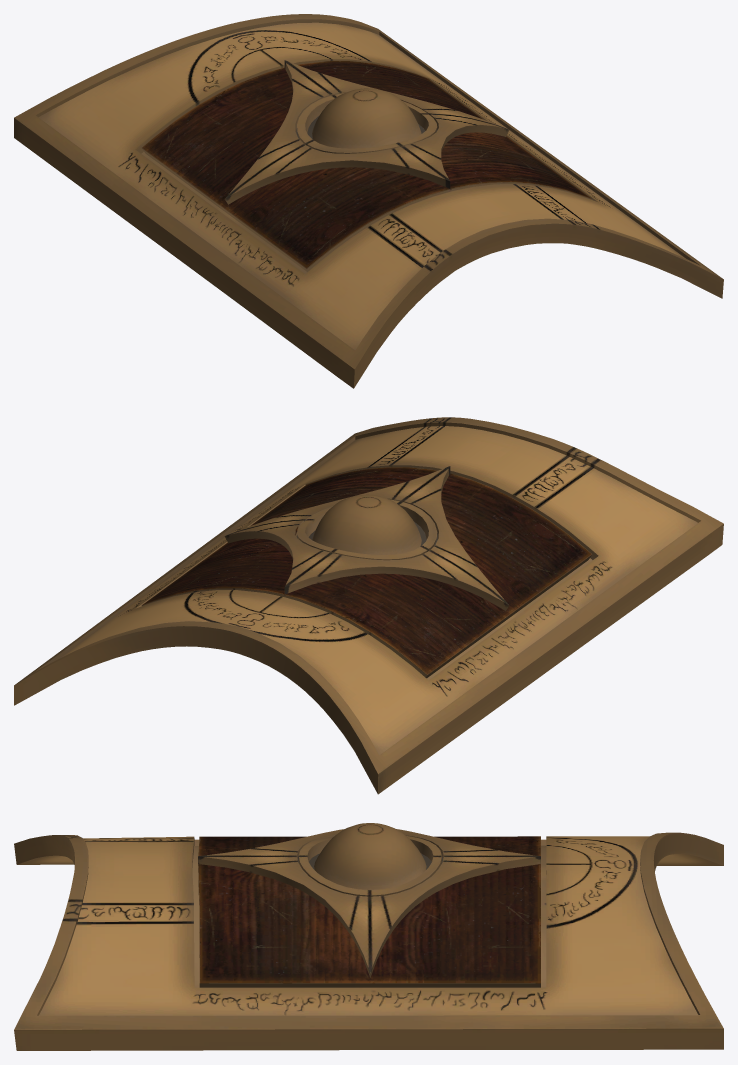
File: easterling_shield.fbx
3 views of the same model, one above another, from view 1: azimuth 30°, elevation 25°; view 2: azimuth 150°, elevation 25°; view 3: azimuth 270°, elevation 25° (orthographic). The views are drawn at different scales.
Visible parts, largest first — view 1: easterling_shield; view 2: easterling_shield; view 3: easterling_shield.
Boxes of the visible parts, bbox=[...] form: easterling_shield: bbox=[14, 14, 723, 388]; easterling_shield: bbox=[14, 417, 723, 794]; easterling_shield: bbox=[14, 823, 723, 1050].
Size of the model in its own units: 0.7331 by 1.18 by 0.2372.
Materials: 1 (1 with a texture image).
